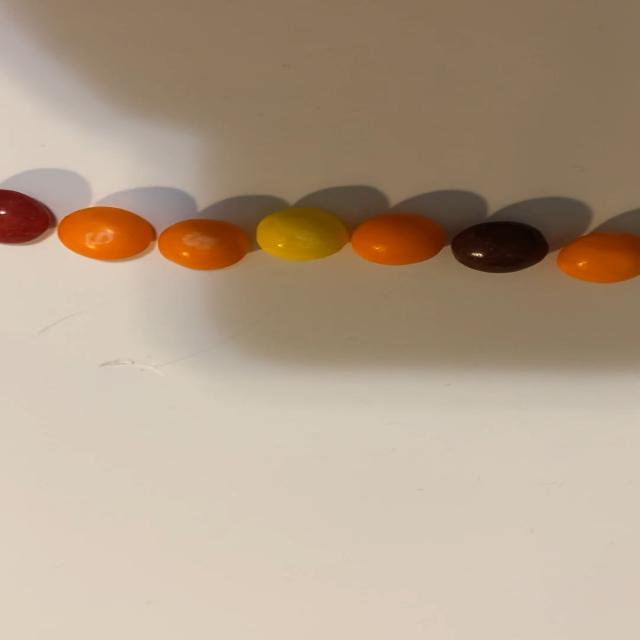smartie: (451, 221, 549, 273), (56, 207, 152, 260), (350, 213, 446, 265), (256, 208, 348, 260), (157, 219, 249, 270), (558, 233, 640, 283), (0, 189, 49, 243)
